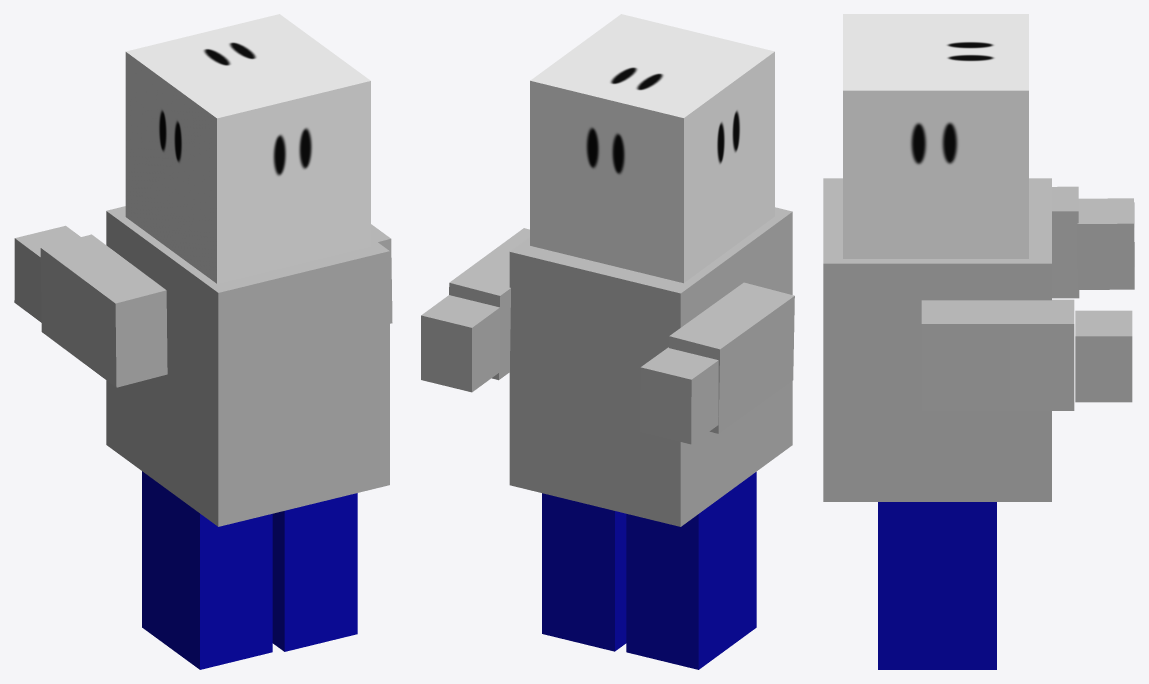
Rendered from Enemy2.FBX.
The picture shows the model from 3 angles, left to right: view 1: azimuth 30°, elevation 25°; view 2: azimuth 150°, elevation 25°; view 3: azimuth 270°, elevation 25°; orthographic projection. The views are drawn at different scales.
Parts seen in each view (by area): view 1: Body, hed, tight reg1, right arm, left reg1, right hand; view 2: hed, Body, tight reg1, left reg1, right arm, left hand, right hand, left arm; view 3: hed, Body, left reg1, left arm, left hand, right hand, right arm.
Boxes of the visible parts, x1,y1,x2,y2 form: Body: (106, 206, 389, 526); hed: (125, 14, 370, 283); tight reg1: (142, 471, 272, 669); right arm: (40, 234, 167, 387); left reg1: (272, 493, 357, 651); right hand: (14, 225, 80, 322); hed: (530, 14, 774, 283); Body: (509, 207, 792, 526); tight reg1: (626, 472, 756, 669); left reg1: (542, 493, 626, 651); right arm: (669, 282, 794, 433); left hand: (421, 295, 499, 392); right hand: (640, 347, 718, 444); left arm: (449, 228, 529, 380); hed: (843, 14, 1028, 258); Body: (823, 178, 1051, 501); left reg1: (878, 502, 996, 669); left arm: (921, 299, 1074, 410); left hand: (1075, 310, 1132, 402); right hand: (1077, 198, 1134, 289); right arm: (1052, 186, 1079, 298).
Bounding box in the file's own units: 10.96 × 10.55 × 21.59.
